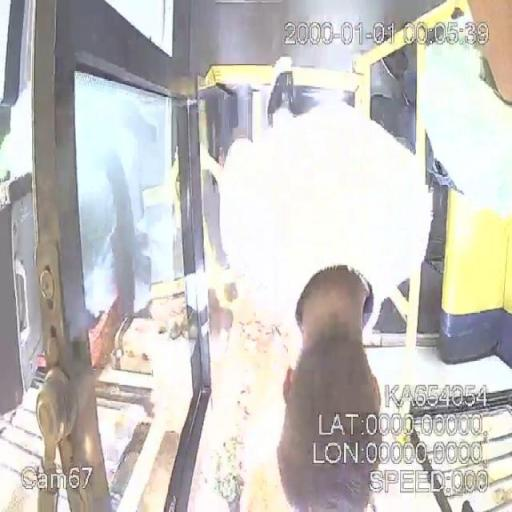persona: (215, 61, 429, 512)
